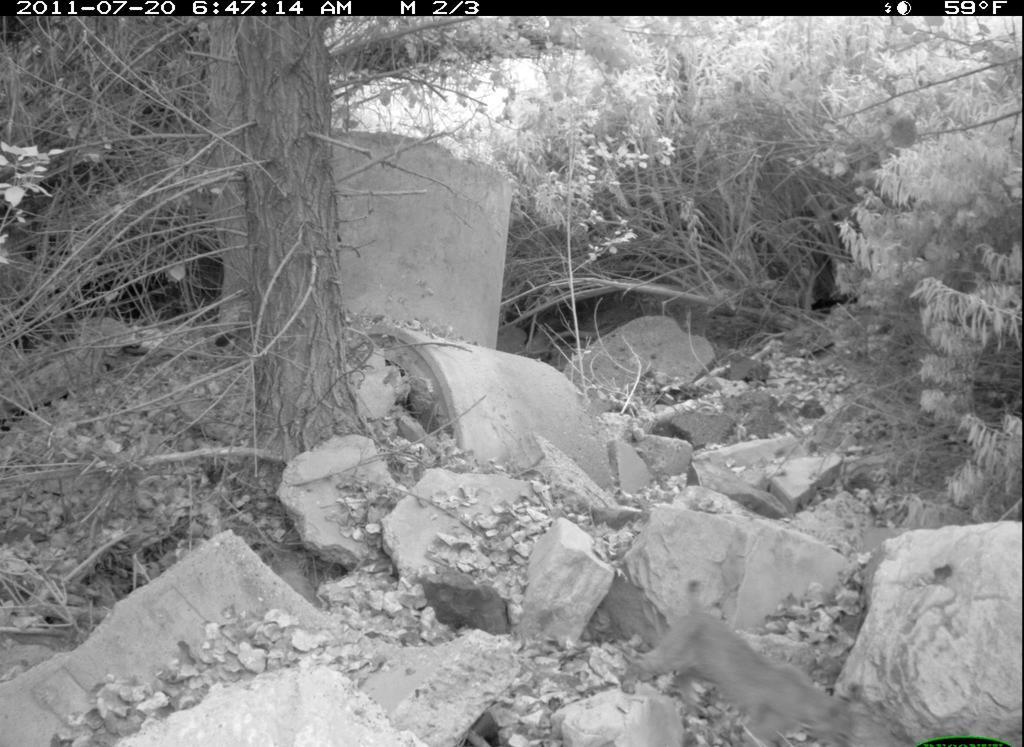bobcat: (643, 565, 912, 747)
